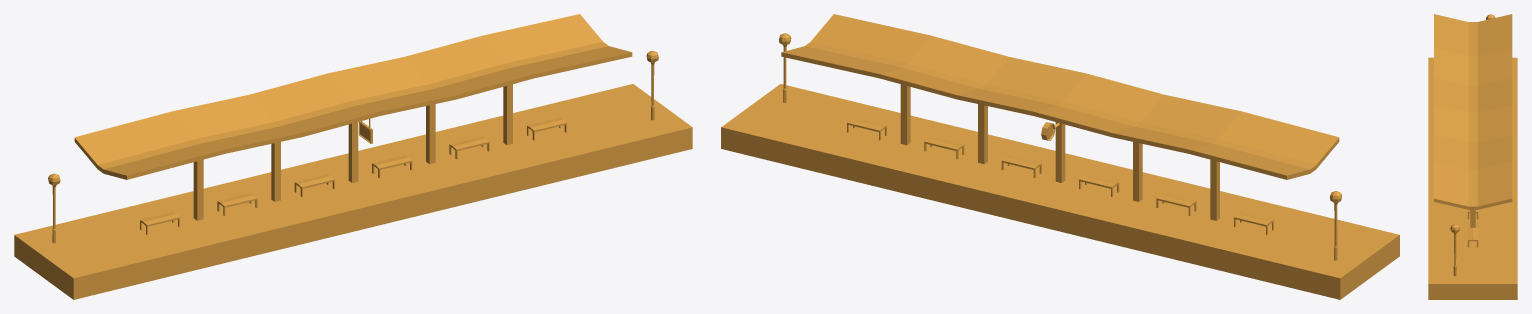
The model's file is train-station-platform.fbx.
3 renders of one model, left to right at view 1: azimuth 30°, elevation 25°; view 2: azimuth 150°, elevation 25°; view 3: azimuth 270°, elevation 25°, orthographic. The views are drawn at different scales.
Visible parts, largest first — view 1: train-station-platform; view 2: train-station-platform; view 3: train-station-platform.
Boxes of the visible parts, box(x1,y1,x2,y2) form: train-station-platform: box(14, 14, 692, 299); train-station-platform: box(721, 14, 1399, 299); train-station-platform: box(1428, 14, 1517, 299).
Bounding box in the file's own units: 30.04 × 5.1 × 5.
